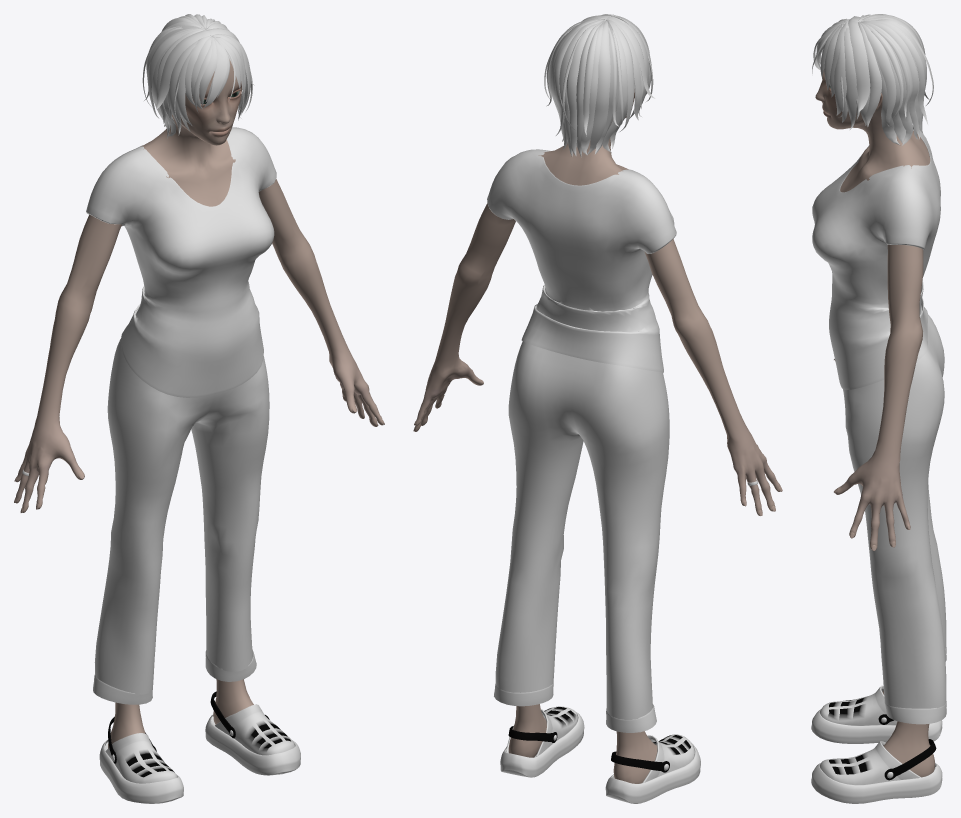
Rendered from woman (1).fbx.
3 views of the same model, side by side, from view 1: azimuth 30°, elevation 25°; view 2: azimuth 150°, elevation 25°; view 3: azimuth 270°, elevation 25° (orthographic).
Parts seen in each view (by area): view 1: cloth_low, Body_low, crocs_low, hairs_low; view 2: cloth_low, Body_low, hairs_low, crocs_low; view 3: cloth_low, Body_low, hairs_low, crocs_low.
Boxes of the visible parts, x1,y1,x2,y2 form: cloth_low: (86,127,276,704); Body_low: (14,59,384,748); crocs_low: (99,691,300,803); hairs_low: (142,14,254,138); cloth_low: (487,149,676,732); Body_low: (413,85,782,783); hairs_low: (544,14,655,157); crocs_low: (500,706,700,803); cloth_low: (812,125,946,724); Body_low: (815,69,934,777); hairs_low: (812,14,933,145); crocs_low: (811,685,942,803).
Size of the model in its own units: 79.77 by 160 by 26.39.
